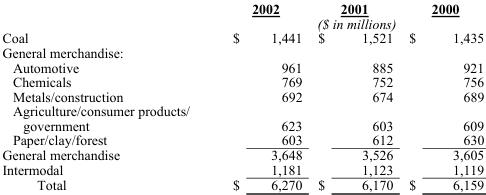table: (1, 1, 483, 192)
table column: (1, 1, 177, 192), (177, 1, 309, 192), (309, 1, 400, 192), (400, 1, 483, 192)
table column header: (1, 1, 483, 30)
table projected row header: (1, 45, 483, 59), (1, 103, 483, 117)
table row: (1, 176, 483, 192), (1, 15, 483, 30), (1, 30, 483, 45), (1, 59, 483, 74), (1, 88, 483, 103), (1, 117, 483, 132), (1, 132, 483, 147), (1, 147, 483, 162), (1, 1, 483, 15), (1, 45, 483, 59), (1, 74, 483, 88), (1, 103, 483, 117), (1, 162, 483, 176)
table spanning cell: (177, 15, 483, 30)
